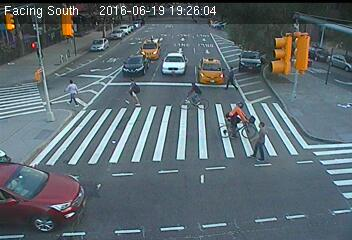neg: (196, 158, 239, 215), (78, 152, 110, 195), (223, 98, 254, 139), (147, 163, 177, 204), (27, 122, 56, 160), (278, 194, 304, 229), (185, 78, 211, 112), (21, 73, 45, 105), (297, 149, 320, 179), (286, 33, 308, 62), (155, 29, 175, 56), (317, 51, 336, 77), (108, 28, 125, 51), (40, 36, 57, 58), (241, 37, 257, 58), (75, 33, 90, 52), (314, 92, 328, 111), (197, 32, 211, 50)
pos: (243, 117, 274, 157), (121, 76, 146, 108), (62, 76, 85, 107), (225, 64, 244, 90)
